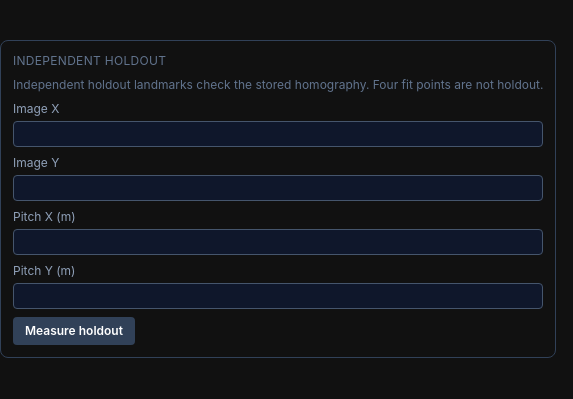
Scenario: posts independent holdout landmarks to the loaded match and does not invent client acceptance
Type "50" into the field labelled "Image X" at (278, 134), box x1=13 y1=121 x2=544 y2=147
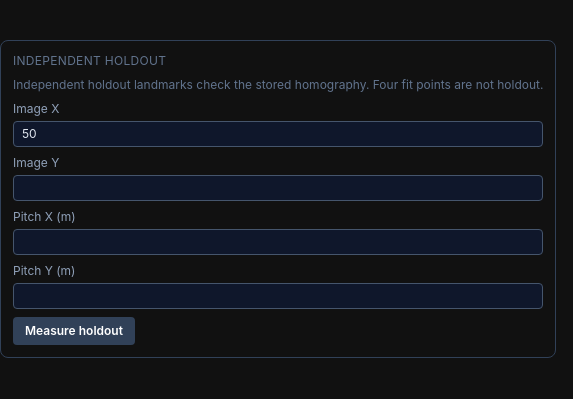
Type "50" into the field labelled "Image Y" at (278, 188), box x1=13 y1=175 x2=544 y2=201
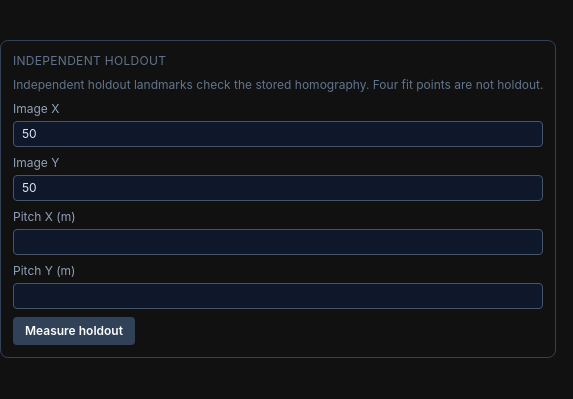
Type "0" into the field labelled "Pitch X (m)" at (278, 242), box x1=13 y1=229 x2=544 y2=255
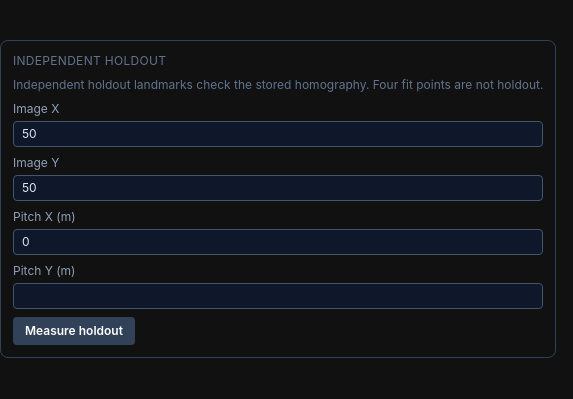
Type "0" into the field labelled "Pitch Y (m)" at (278, 296), box x1=13 y1=283 x2=544 y2=309
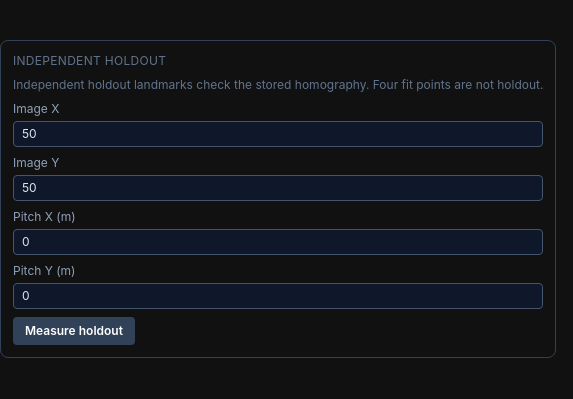
Click the button "Measure holdout" at (74, 331), box x1=13 y1=317 x2=135 y2=345
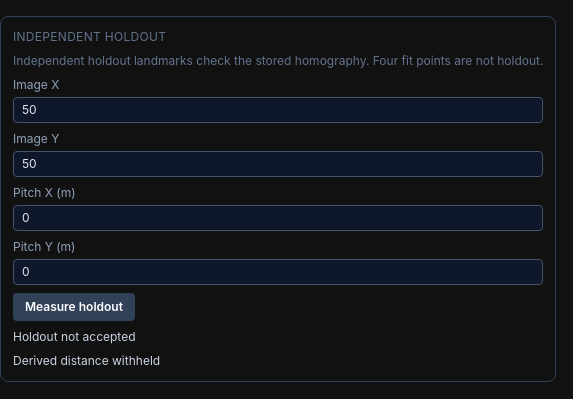
Result: the text "Holdout not accepted" is shown at x1=13 y1=329 x2=136 y2=344
Result: the text "Derived distance withheld" is shown at x1=13 y1=353 x2=160 y2=368
